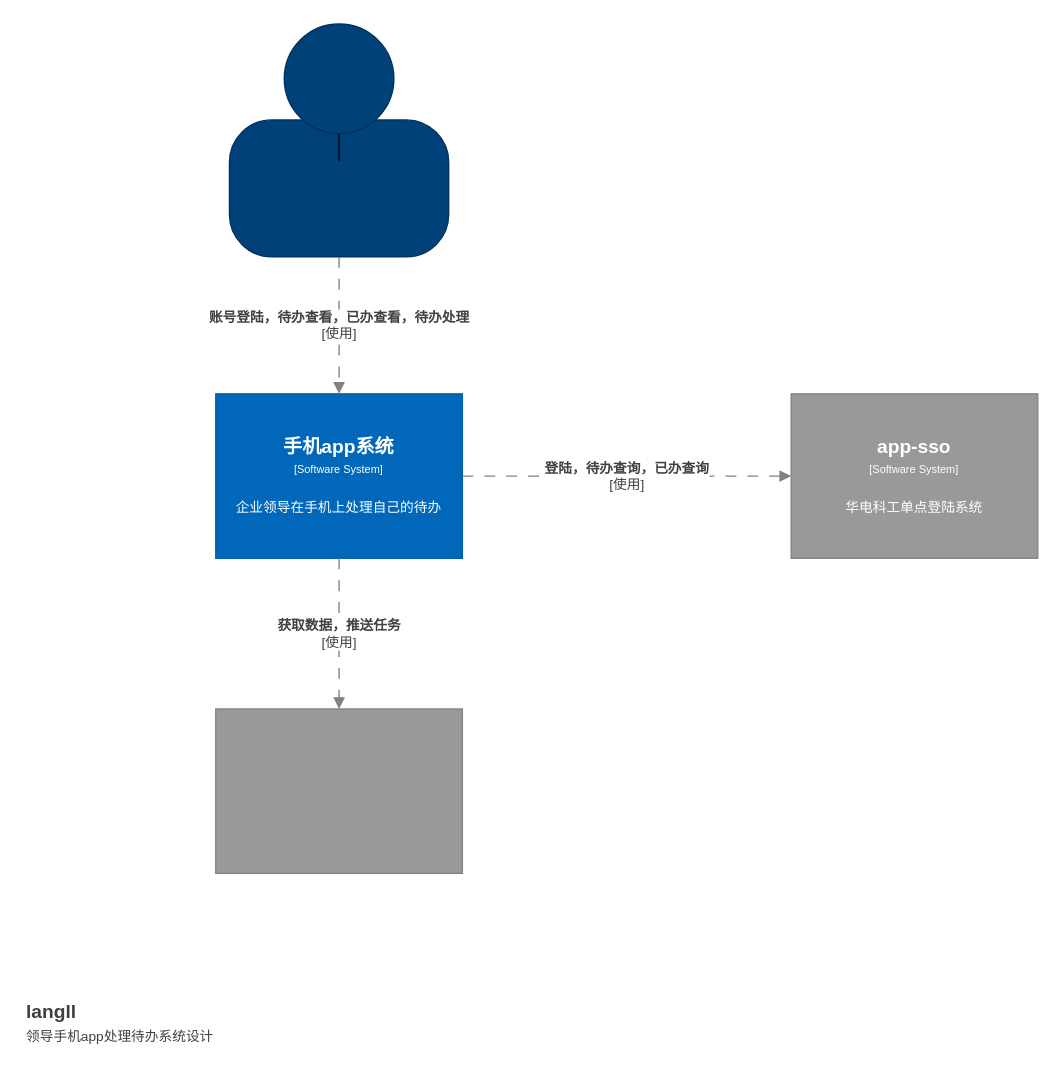
Some shapes in this 1062 by 1075 pixel diagram are drawn without their labels. Here are the shapes that lost their labels. From the top down, the centre of each, then its label:
(x=338, y=188): 公司领导 [Person] 使用手机APP处理待办
(x=338, y=790): app-hdgc [Software System ] 华电科工EM系统
